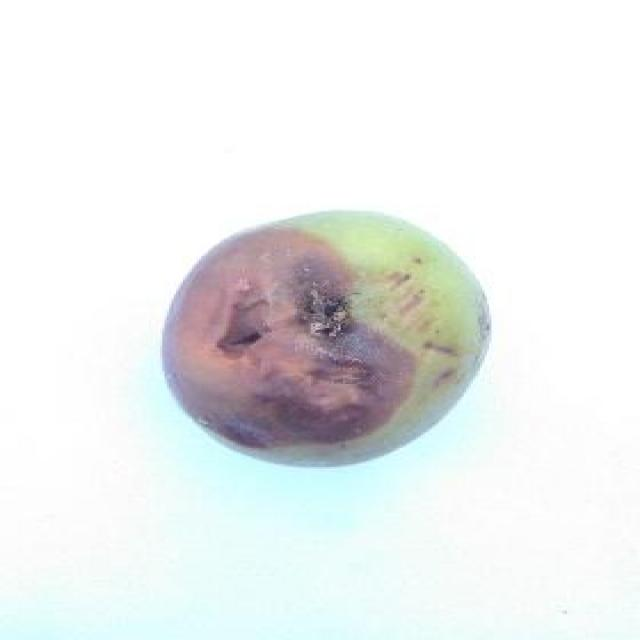Rotten: (161, 205, 493, 469)
